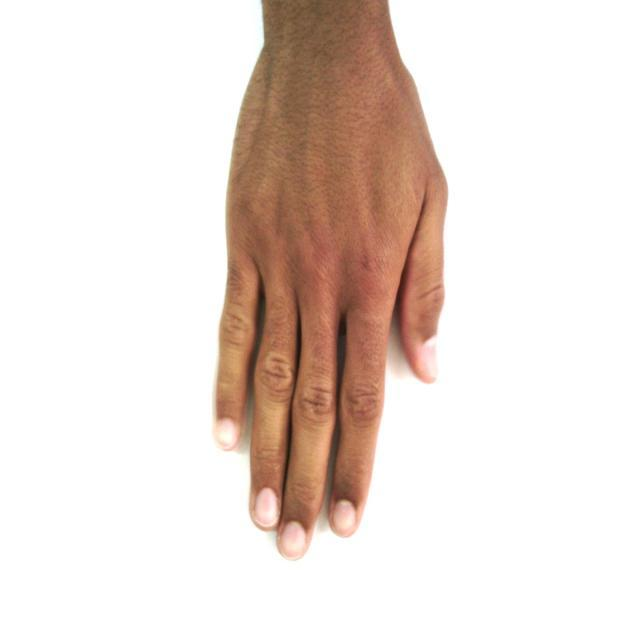Fingernail: (280, 522, 306, 559), (331, 500, 356, 536), (255, 489, 278, 527), (217, 420, 238, 448), (424, 338, 437, 376)
